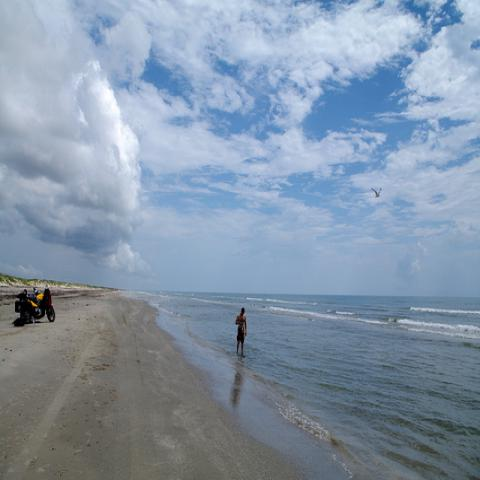motorcycle: (15, 283, 56, 324)
